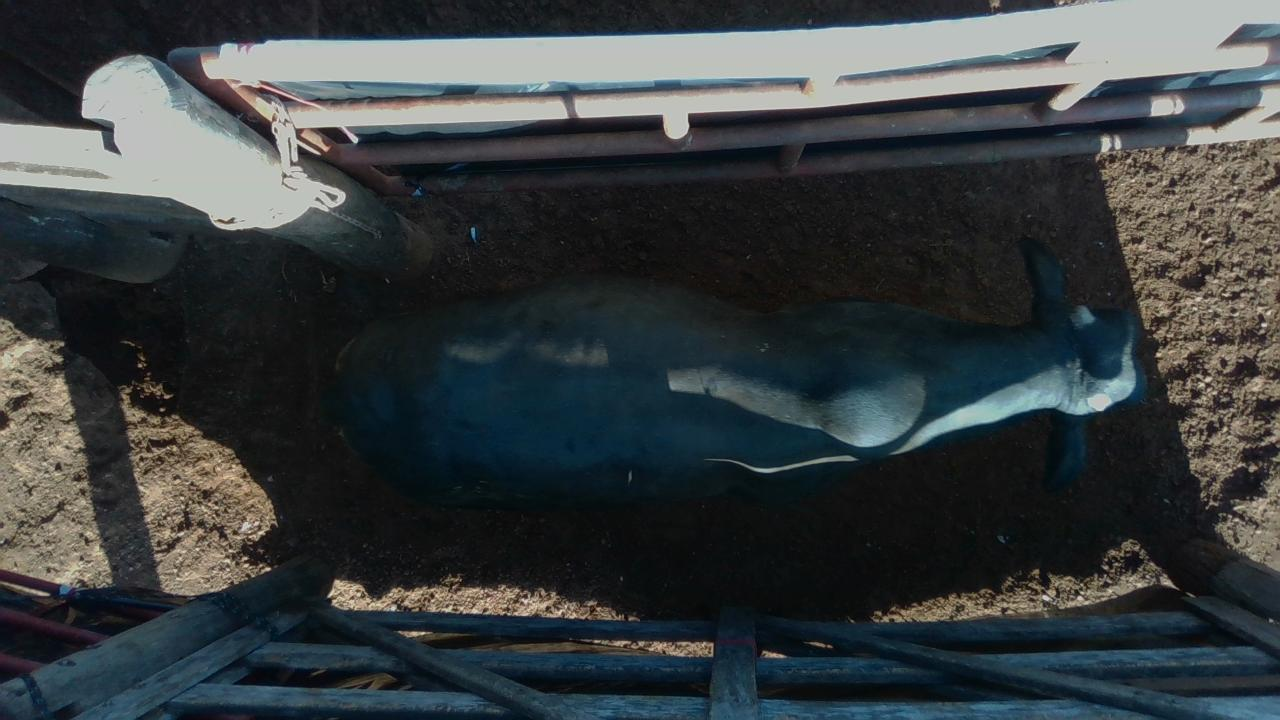cattle: (331, 234, 1145, 509)
